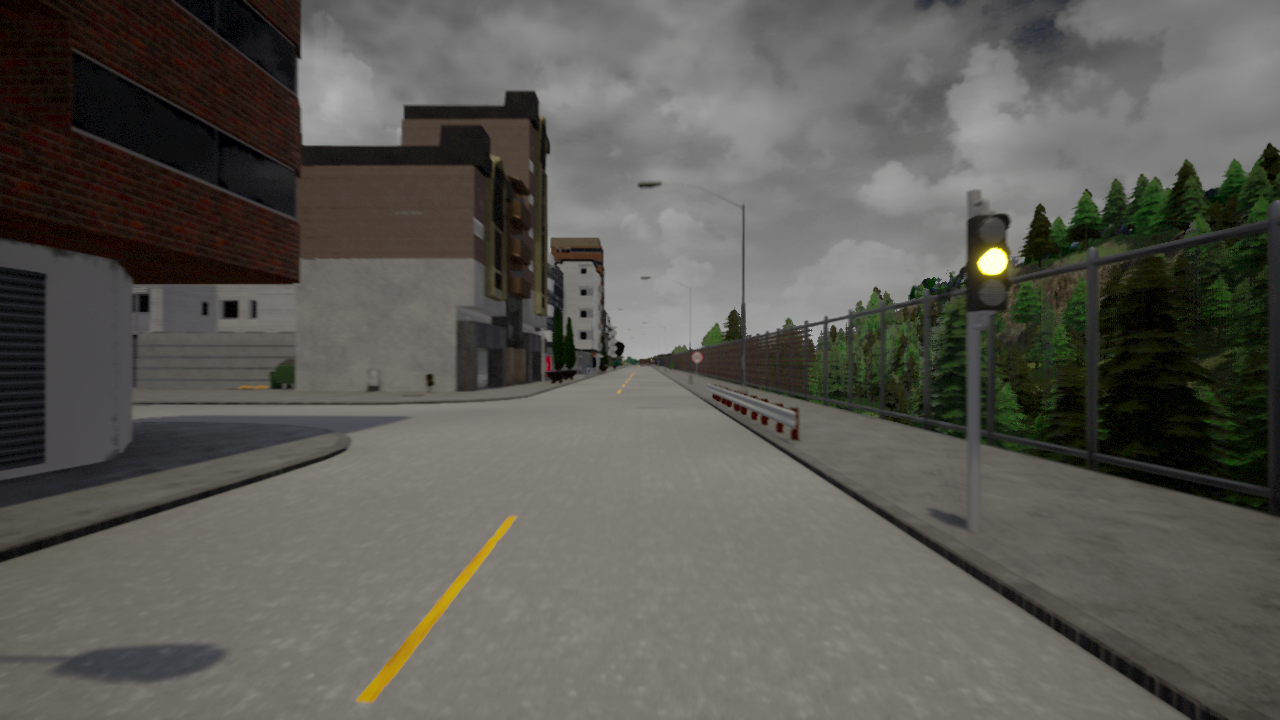yellow: (967, 210, 1010, 318)
